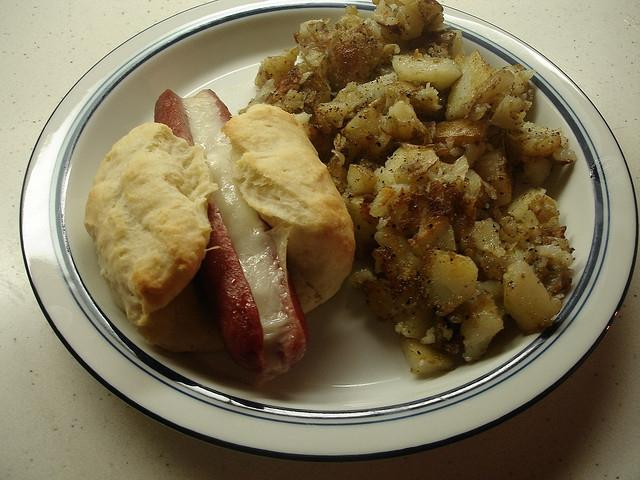potato: (328, 14, 401, 94), (503, 260, 562, 336), (388, 174, 464, 230), (342, 72, 418, 126), (420, 250, 478, 316), (445, 50, 496, 121), (340, 107, 399, 161), (460, 70, 516, 123), (462, 291, 504, 361), (372, 224, 422, 282), (392, 54, 463, 92), (532, 235, 576, 295), (369, 184, 423, 230), (399, 336, 463, 374), (473, 148, 513, 208), (294, 17, 338, 67), (456, 168, 498, 220), (407, 216, 458, 258), (384, 100, 432, 144), (364, 280, 413, 322), (507, 121, 562, 157), (432, 117, 487, 147), (397, 148, 440, 186), (466, 218, 506, 258), (332, 80, 376, 116), (374, 147, 409, 192), (370, 0, 411, 38), (491, 96, 532, 132), (465, 248, 505, 280), (297, 71, 331, 107), (377, 23, 412, 54), (528, 193, 561, 225), (499, 216, 532, 246), (260, 56, 294, 85), (347, 164, 378, 194), (316, 102, 348, 128), (431, 30, 456, 59), (359, 194, 381, 224), (522, 210, 538, 228)
